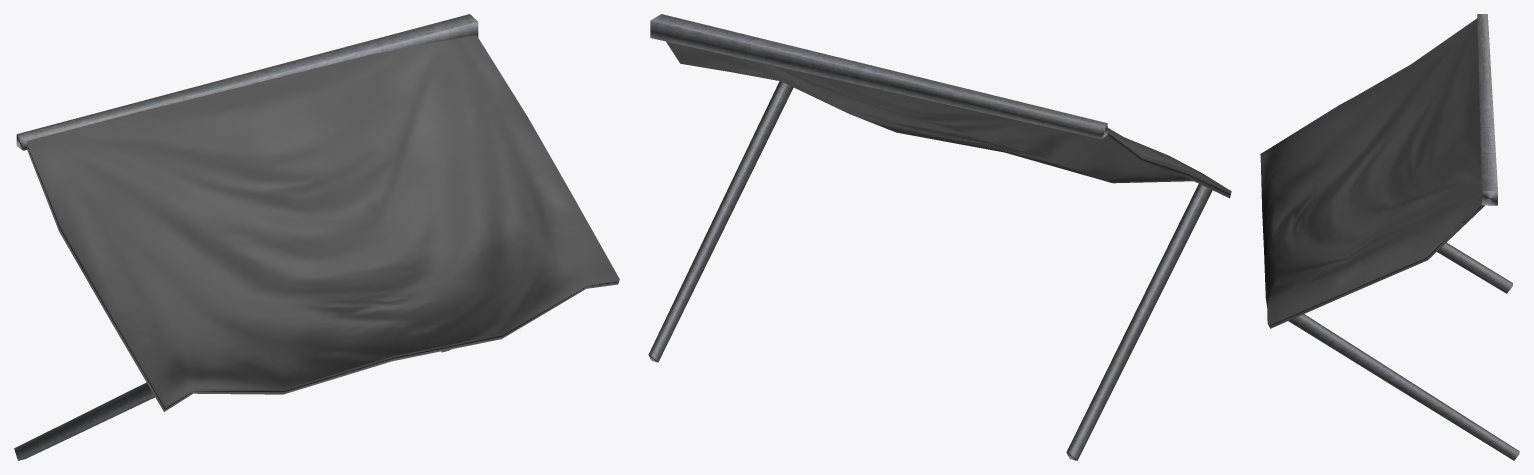
Rendered from WindowRoofA.fbx.
3 renders of one model, left to right at view 1: azimuth 30°, elevation 25°; view 2: azimuth 150°, elevation 25°; view 3: azimuth 270°, elevation 25°, orthographic. The views are drawn at different scales.
Parts seen in each view (by area): view 1: WindowRoofA; view 2: WindowRoofA; view 3: WindowRoofA.
Boxes of the visible parts, box(x1,y1,x2,y2) form: WindowRoofA: box(14, 14, 619, 460); WindowRoofA: box(648, 14, 1231, 460); WindowRoofA: box(1260, 14, 1519, 460).
Bounding box in the file's own units: 200 × 138 × 118.
1 material, 1 textured.
